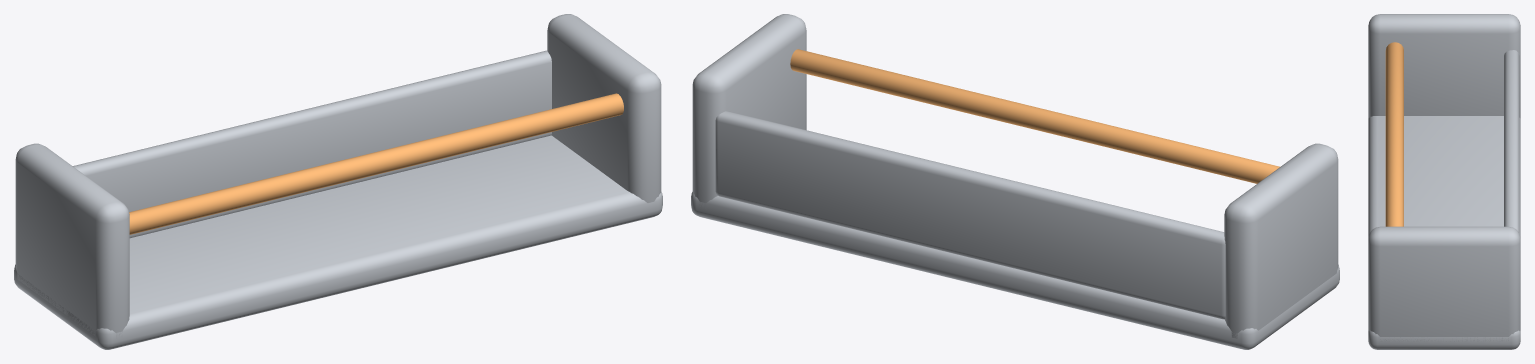
Rendered from prateleira_parede_barra_cinza.glb.
The picture shows the model from 3 angles, left to right: view 1: azimuth 30°, elevation 25°; view 2: azimuth 150°, elevation 25°; view 3: azimuth 270°, elevation 25°; orthographic projection. The views are drawn at different scales.
Parts seen in each view (by area): view 1: prateleira_parede_barra_cinza; view 2: prateleira_parede_barra_cinza; view 3: prateleira_parede_barra_cinza.
Part boxes in pixels (x1=…): prateleira_parede_barra_cinza: x1=14, y1=14, x2=662, y2=349; prateleira_parede_barra_cinza: x1=691, y1=14, x2=1339, y2=349; prateleira_parede_barra_cinza: x1=1368, y1=14, x2=1520, y2=349.
Size of the model in its own units: 0.7 by 0.17 by 0.2.
Materials: 1 (1 with a texture image).
